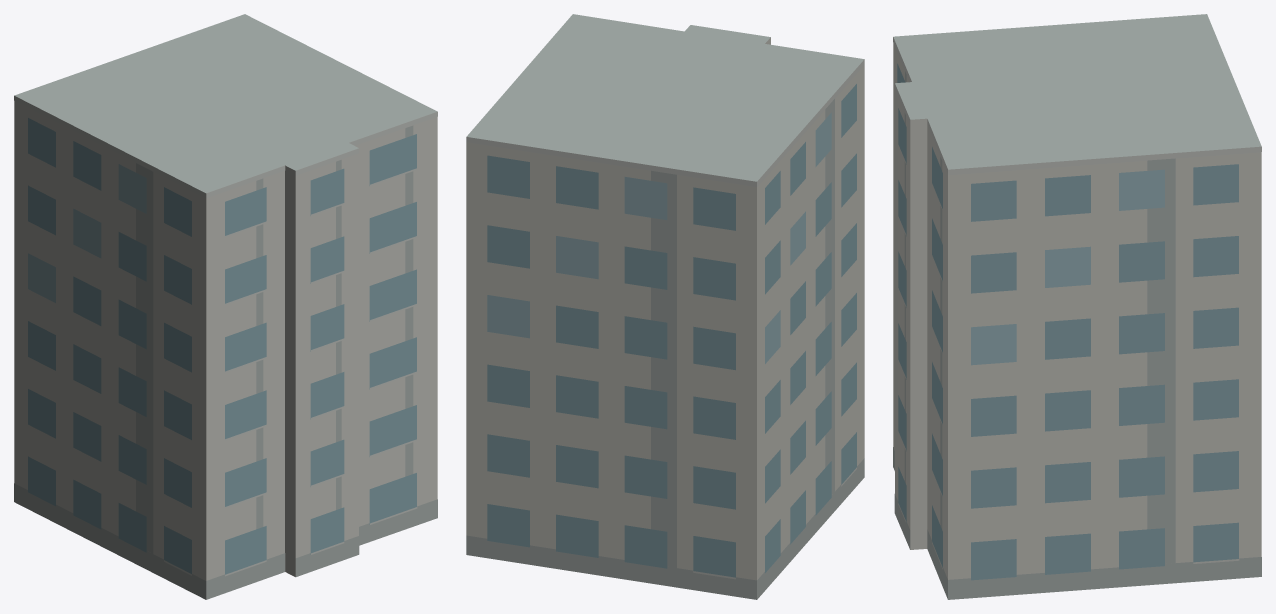
Rendered from survey-upis-32698822.glb.
3 views of the same model, side by side, from view 1: azimuth 30°, elevation 25°; view 2: azimuth 150°, elevation 25°; view 3: azimuth 270°, elevation 25° (orthographic). The views are drawn at different scales.
Parts seen in each view (by area): view 1: survey-upis-32698822.tmp; view 2: survey-upis-32698822.tmp; view 3: survey-upis-32698822.tmp.
Boxes of the visible parts, left/top/right/bottom form: survey-upis-32698822.tmp: left=14, top=14, right=437, bottom=599; survey-upis-32698822.tmp: left=466, top=14, right=864, bottom=599; survey-upis-32698822.tmp: left=893, top=14, right=1261, bottom=599.
Bounding box in the file's own units: 14.75 × 19 × 14.77.
